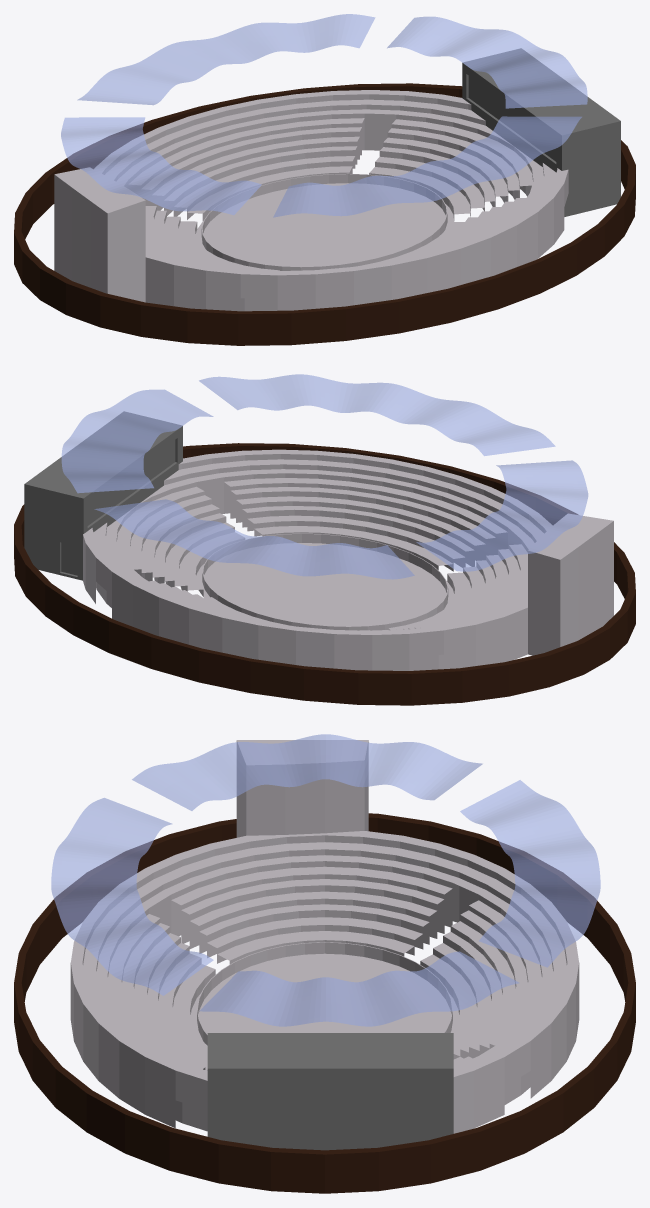
Rendered from cinema.glb.
3 renders of one model, top to bottom at view 1: azimuth 30°, elevation 25°; view 2: azimuth 150°, elevation 25°; view 3: azimuth 270°, elevation 25°, orthographic. The views are drawn at different scales.
Visible parts, largest first — view 1: sports stadium.007, sports stadium.005, sports stadium.006, sports stadium.067, sports stadium.017, sports stadium.016, sports stadium.739, sports stadium.741, sports stadium.654, sports stadium.510, sports stadium.749, sports stadium.208 (+23 smaller); view 2: sports stadium.007, sports stadium.005, sports stadium.006, sports stadium.067, sports stadium.010, sports stadium.450, sports stadium.385, sports stadium.361, sports stadium.449, sports stadium.362, sports stadium.011, sports stadium.501 (+27 smaller); view 3: sports stadium.007, sports stadium.005, sports stadium.006, sports stadium.067, sports stadium.015, sports stadium.018, sports stadium.609, sports stadium.1299, sports stadium.021, sports stadium.1037, sports stadium.1301, sports stadium.014 (+15 smaller).
Part boxes in pixels (x1,y1,x2,y2): sports stadium.007: (61, 14, 587, 217); sports stadium.005: (14, 83, 635, 345); sports stadium.006: (462, 48, 620, 216); sports stadium.067: (203, 183, 445, 261); sports stadium.017: (107, 200, 145, 243); sports stadium.016: (107, 231, 145, 270); sports stadium.739: (277, 274, 315, 299); sports stadium.741: (315, 271, 353, 298); sports stadium.654: (107, 257, 145, 293); sports stadium.510: (240, 274, 277, 299); sports stadium.749: (354, 265, 391, 294); sports stadium.208: (364, 113, 396, 150); sports stadium.007: (61, 374, 588, 579); sports stadium.005: (14, 443, 635, 705); sports stadium.006: (24, 411, 182, 580); sports stadium.067: (204, 544, 440, 626); sports stadium.010: (528, 551, 560, 590); sports stadium.450: (334, 634, 372, 659); sports stadium.385: (296, 630, 334, 657); sports stadium.361: (258, 625, 295, 654); sports stadium.449: (372, 634, 409, 659); sports stadium.362: (222, 618, 258, 649); sports stadium.011: (528, 581, 560, 616); sports stadium.501: (409, 630, 443, 657); sports stadium.007: (51, 734, 600, 1026); sports stadium.005: (14, 813, 635, 1193); sports stadium.006: (207, 1033, 453, 1150); sports stadium.067: (200, 953, 414, 1032); sports stadium.015: (325, 798, 364, 833); sports stadium.018: (246, 802, 285, 835); sports stadium.609: (285, 801, 324, 834); sports stadium.1299: (278, 740, 324, 764); sports stadium.021: (236, 740, 284, 764); sports stadium.1037: (175, 1071, 207, 1110); sports stadium.1301: (285, 777, 324, 802); sports stadium.014: (325, 775, 364, 800).
Bounding box in the file's own units: 505 × 98.75 × 387.
